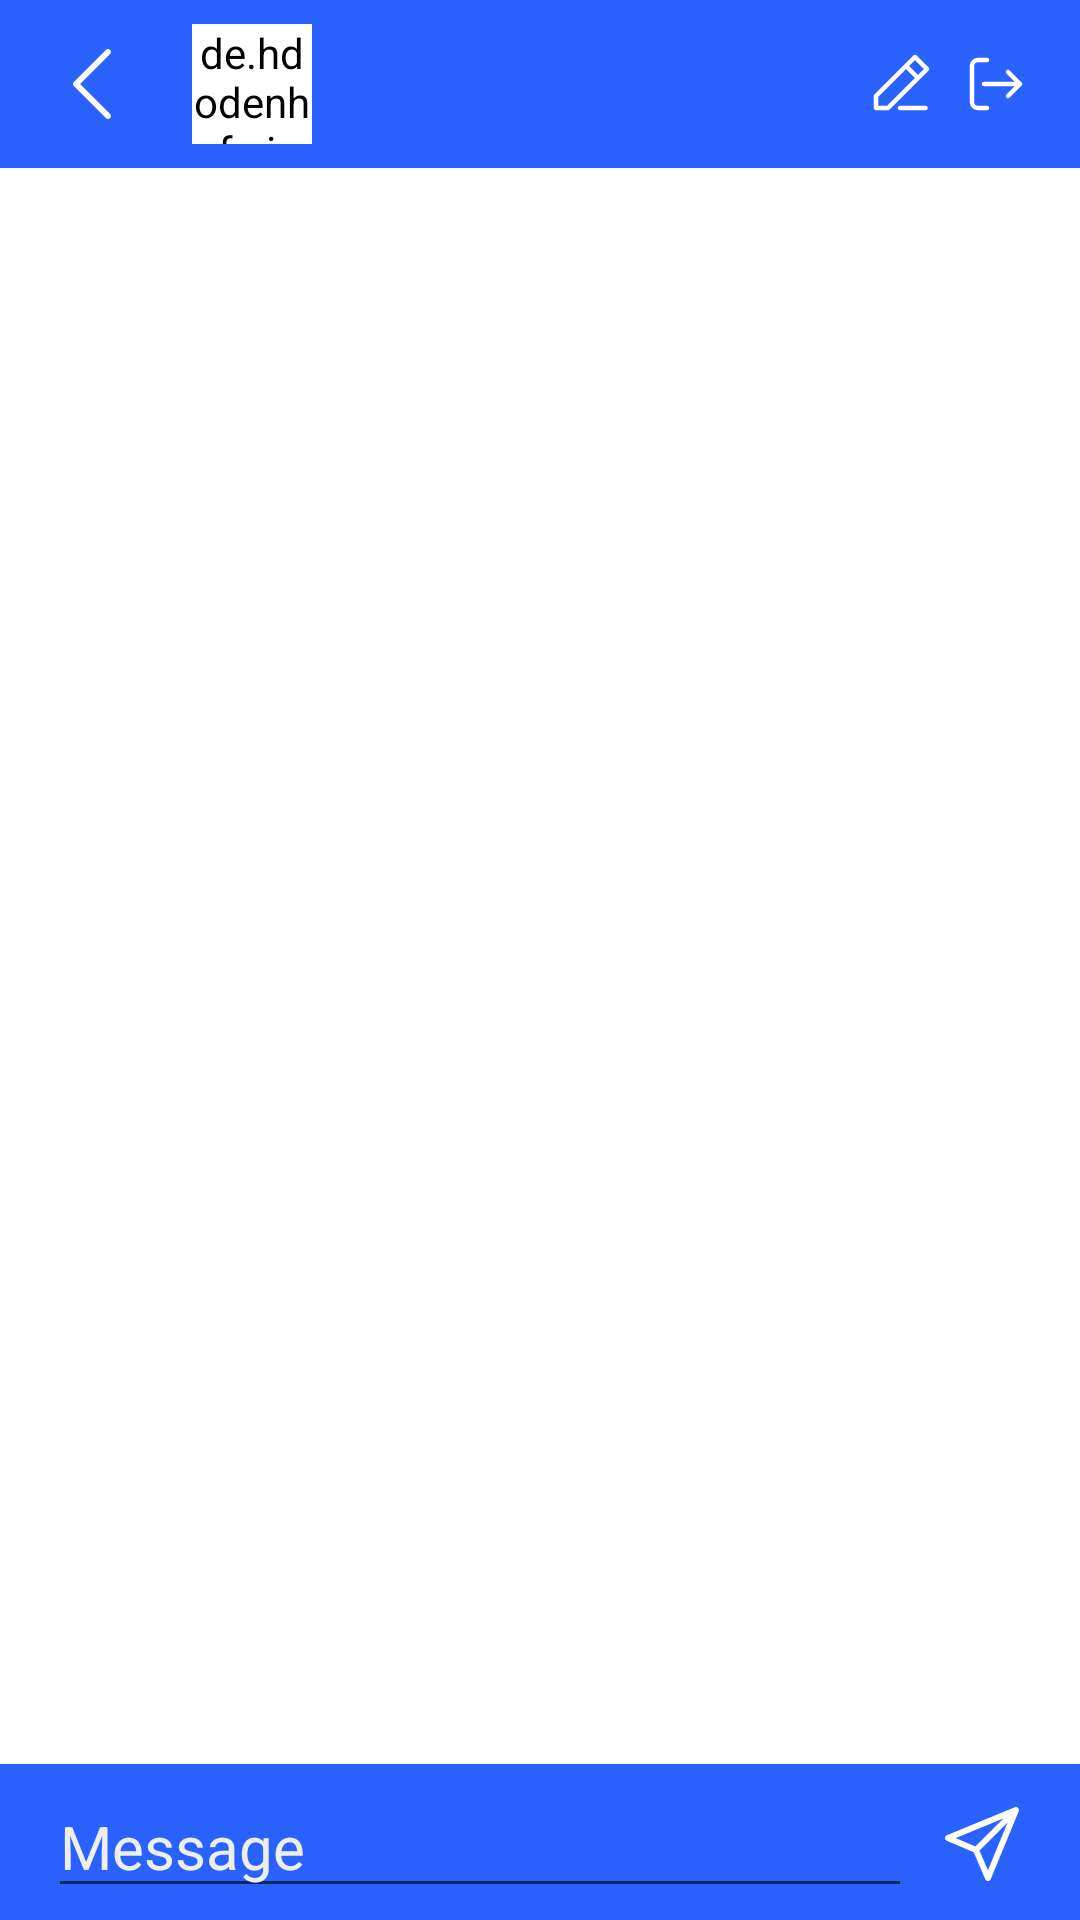

Icons on this 1080×1920 Android screen, each with its box as [left=x1, top=y1, right=x2, bottom=y2]:
back: [left=73, top=49, right=111, bottom=119]
edit: [left=873, top=54, right=930, bottom=111]
send: [left=945, top=1807, right=1019, bottom=1881]
